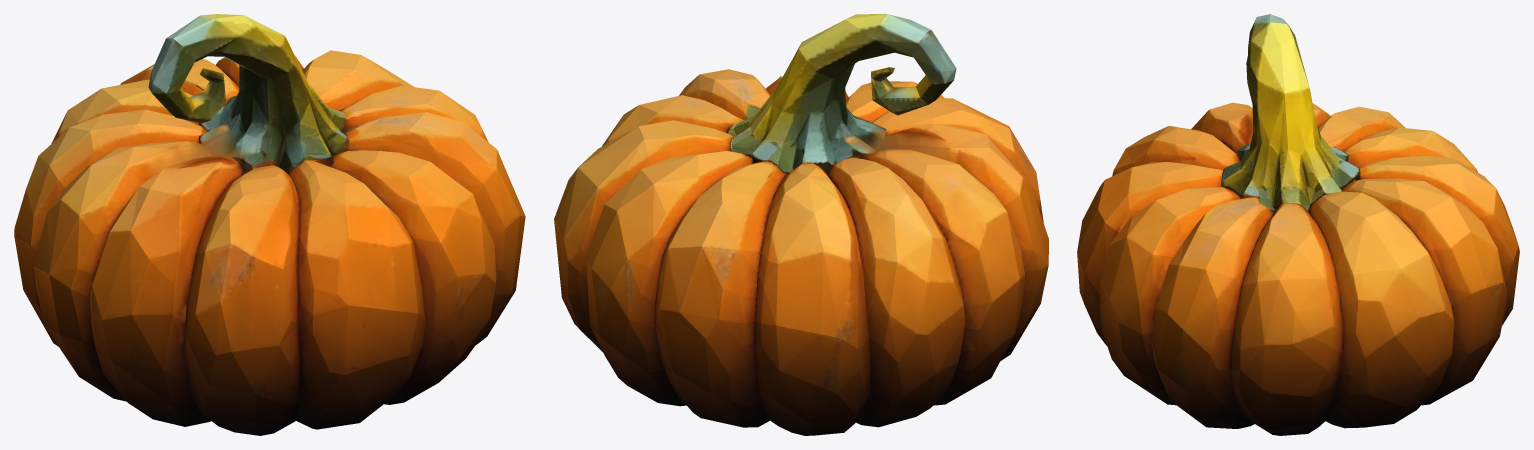
File: halloween-pumpkin-074b33e5.glb
The picture shows the model from 3 angles, left to right: view 1: azimuth 30°, elevation 25°; view 2: azimuth 150°, elevation 25°; view 3: azimuth 270°, elevation 25°; orthographic projection. The views are drawn at different scales.
Visible parts, largest first — view 1: mesh_rep_0_ori_repair_quad; view 2: mesh_rep_0_ori_repair_quad; view 3: mesh_rep_0_ori_repair_quad.
Part boxes in pixels (x1,y1,x2,y2): mesh_rep_0_ori_repair_quad: [14, 14, 525, 435]; mesh_rep_0_ori_repair_quad: [554, 14, 1048, 435]; mesh_rep_0_ori_repair_quad: [1077, 14, 1519, 435].
Bounding box in the file's own units: 1 × 0.8203 × 0.9961.
1 material, 1 textured.
